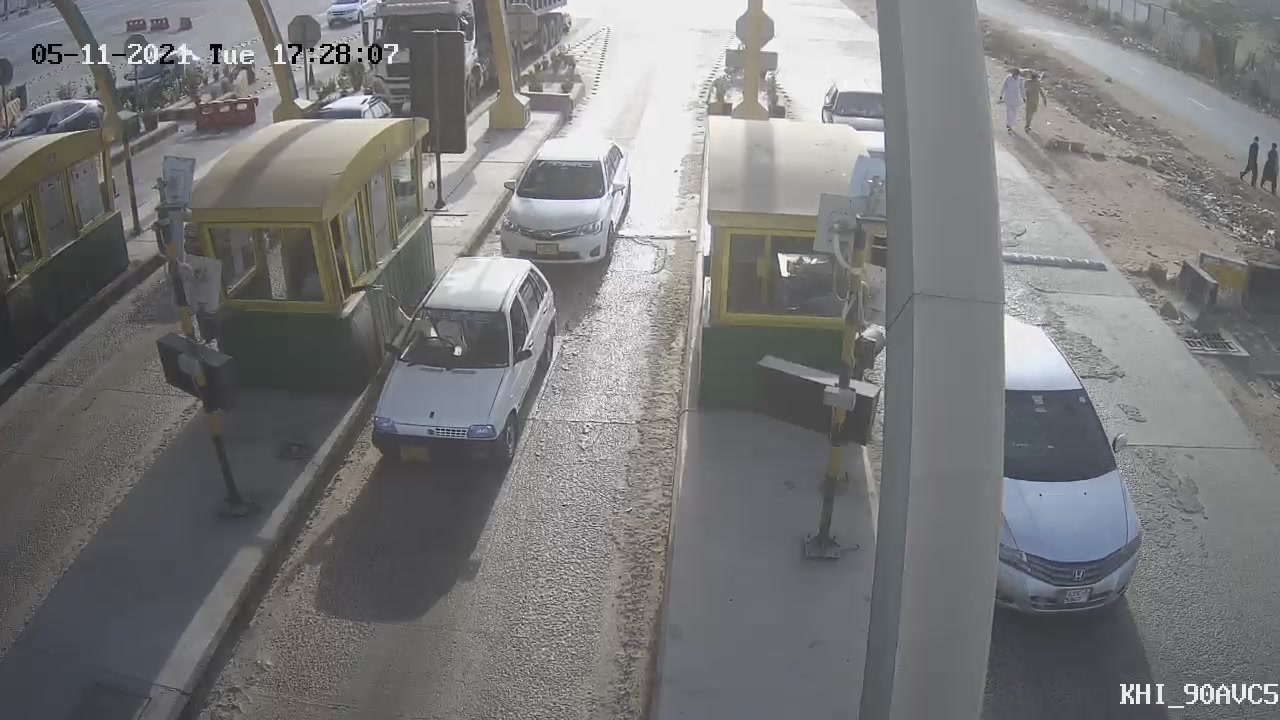F1: (355, 238, 576, 490), (482, 123, 648, 284)
